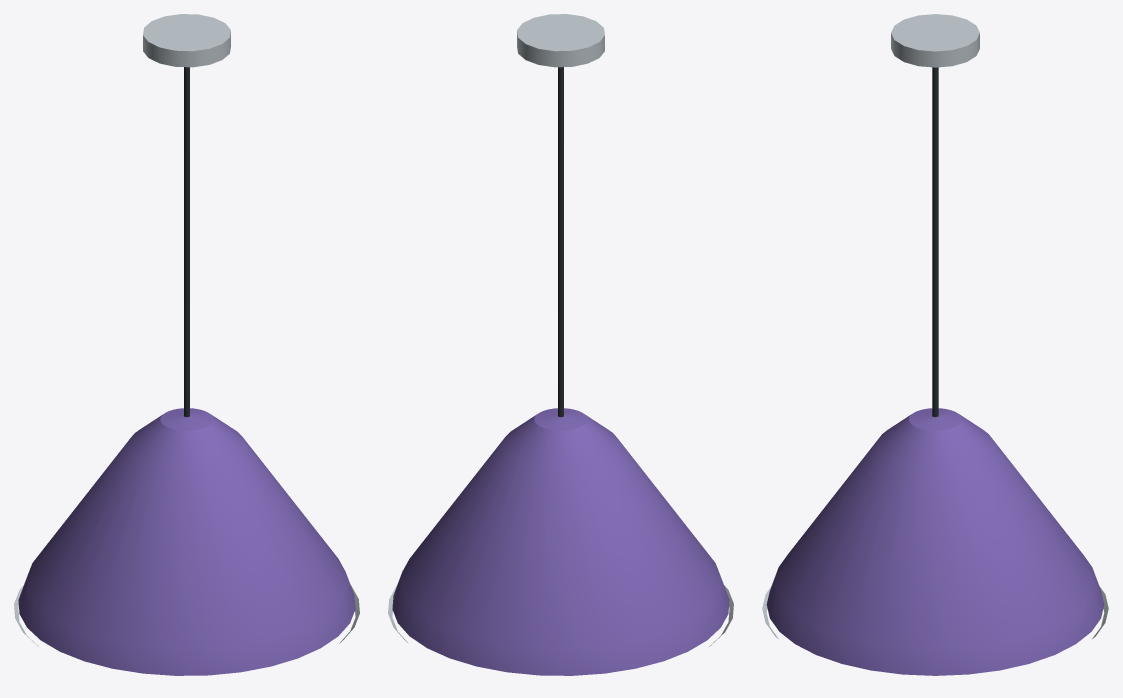
The model's file is SM_PendantLight.glb.
3 renders of one model, left to right at view 1: azimuth 30°, elevation 25°; view 2: azimuth 150°, elevation 25°; view 3: azimuth 270°, elevation 25°, orthographic.
Visible parts, largest first — view 1: SM_PendantLight; view 2: SM_PendantLight; view 3: SM_PendantLight.
Part boxes in pixels (bbox=[...]): SM_PendantLight: bbox=[14, 14, 359, 675]; SM_PendantLight: bbox=[388, 14, 733, 675]; SM_PendantLight: bbox=[762, 14, 1108, 675].
Size of the model in its own units: 0.39 by 0.72 by 0.39.
3 materials, 3 textured.
